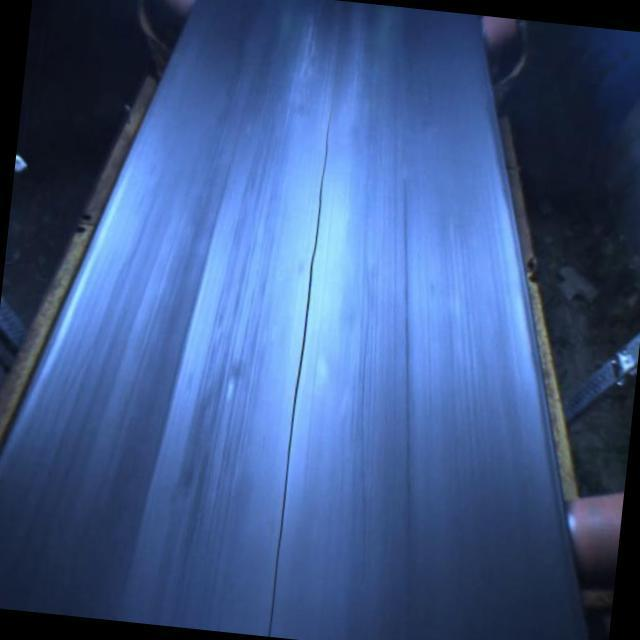Tear: (262, 103, 344, 640)
